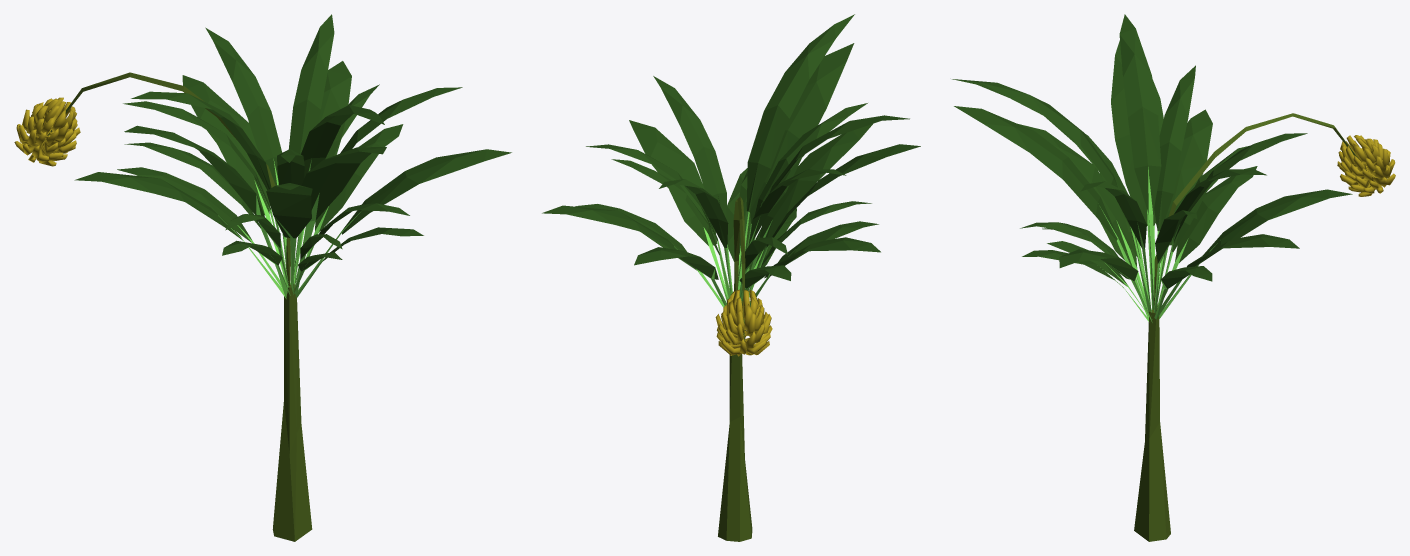
Rendered from SM_BananaTree_001_LOD5.fbx.
3 views of the same model, side by side, from view 1: azimuth 30°, elevation 25°; view 2: azimuth 150°, elevation 25°; view 3: azimuth 270°, elevation 25° (orthographic). The views are drawn at different scales.
Visible parts, largest first — view 1: BananaTree; view 2: BananaTree; view 3: BananaTree.
Boxes of the visible parts, x1,y1,x2,y2 form: BananaTree: (14, 14, 511, 541); BananaTree: (542, 14, 920, 541); BananaTree: (952, 14, 1395, 541).
Size of the model in its own units: 265 by 350 by 316.
